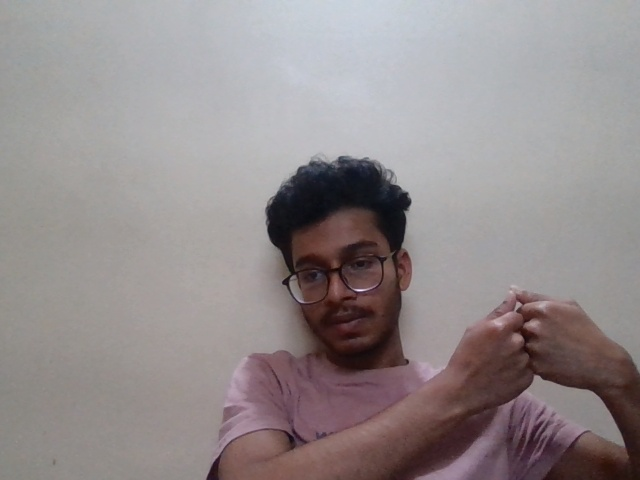sorry: (436, 273, 633, 423)
